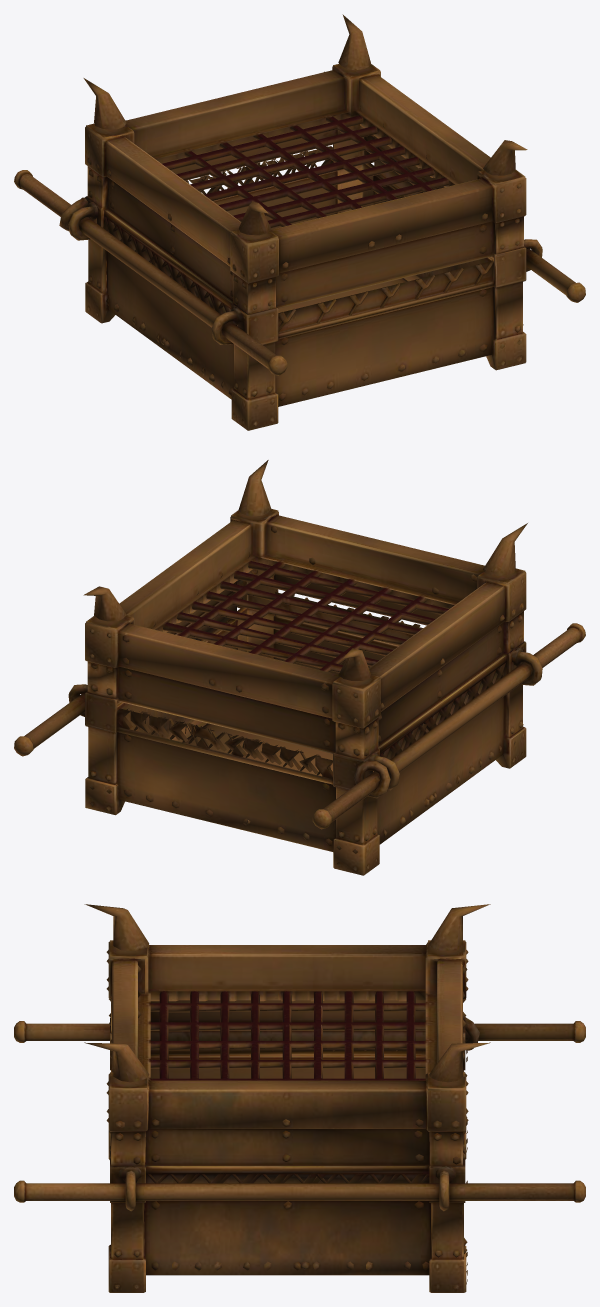
Rendered from sanctuary-burnt-altar-tripo-v31-v1.glb.
The picture shows the model from 3 angles, top to bottom: view 1: azimuth 30°, elevation 25°; view 2: azimuth 150°, elevation 25°; view 3: azimuth 270°, elevation 25°; orthographic projection. The views are drawn at different scales.
Parts seen in each view (by area): view 1: tripo_node_d9d86390-41bf-4ffc-a5d1-697a5fa276eb; view 2: tripo_node_d9d86390-41bf-4ffc-a5d1-697a5fa276eb; view 3: tripo_node_d9d86390-41bf-4ffc-a5d1-697a5fa276eb.
Boxes of the visible parts, x1=… form: tripo_node_d9d86390-41bf-4ffc-a5d1-697a5fa276eb: x1=14, y1=14, x2=585, y2=430; tripo_node_d9d86390-41bf-4ffc-a5d1-697a5fa276eb: x1=14, y1=460, x2=585, y2=875; tripo_node_d9d86390-41bf-4ffc-a5d1-697a5fa276eb: x1=14, y1=904, x2=585, y2=1292.
Size of the model in its own units: 0.726 by 0.4697 by 0.9922.
1 material, 1 textured.
